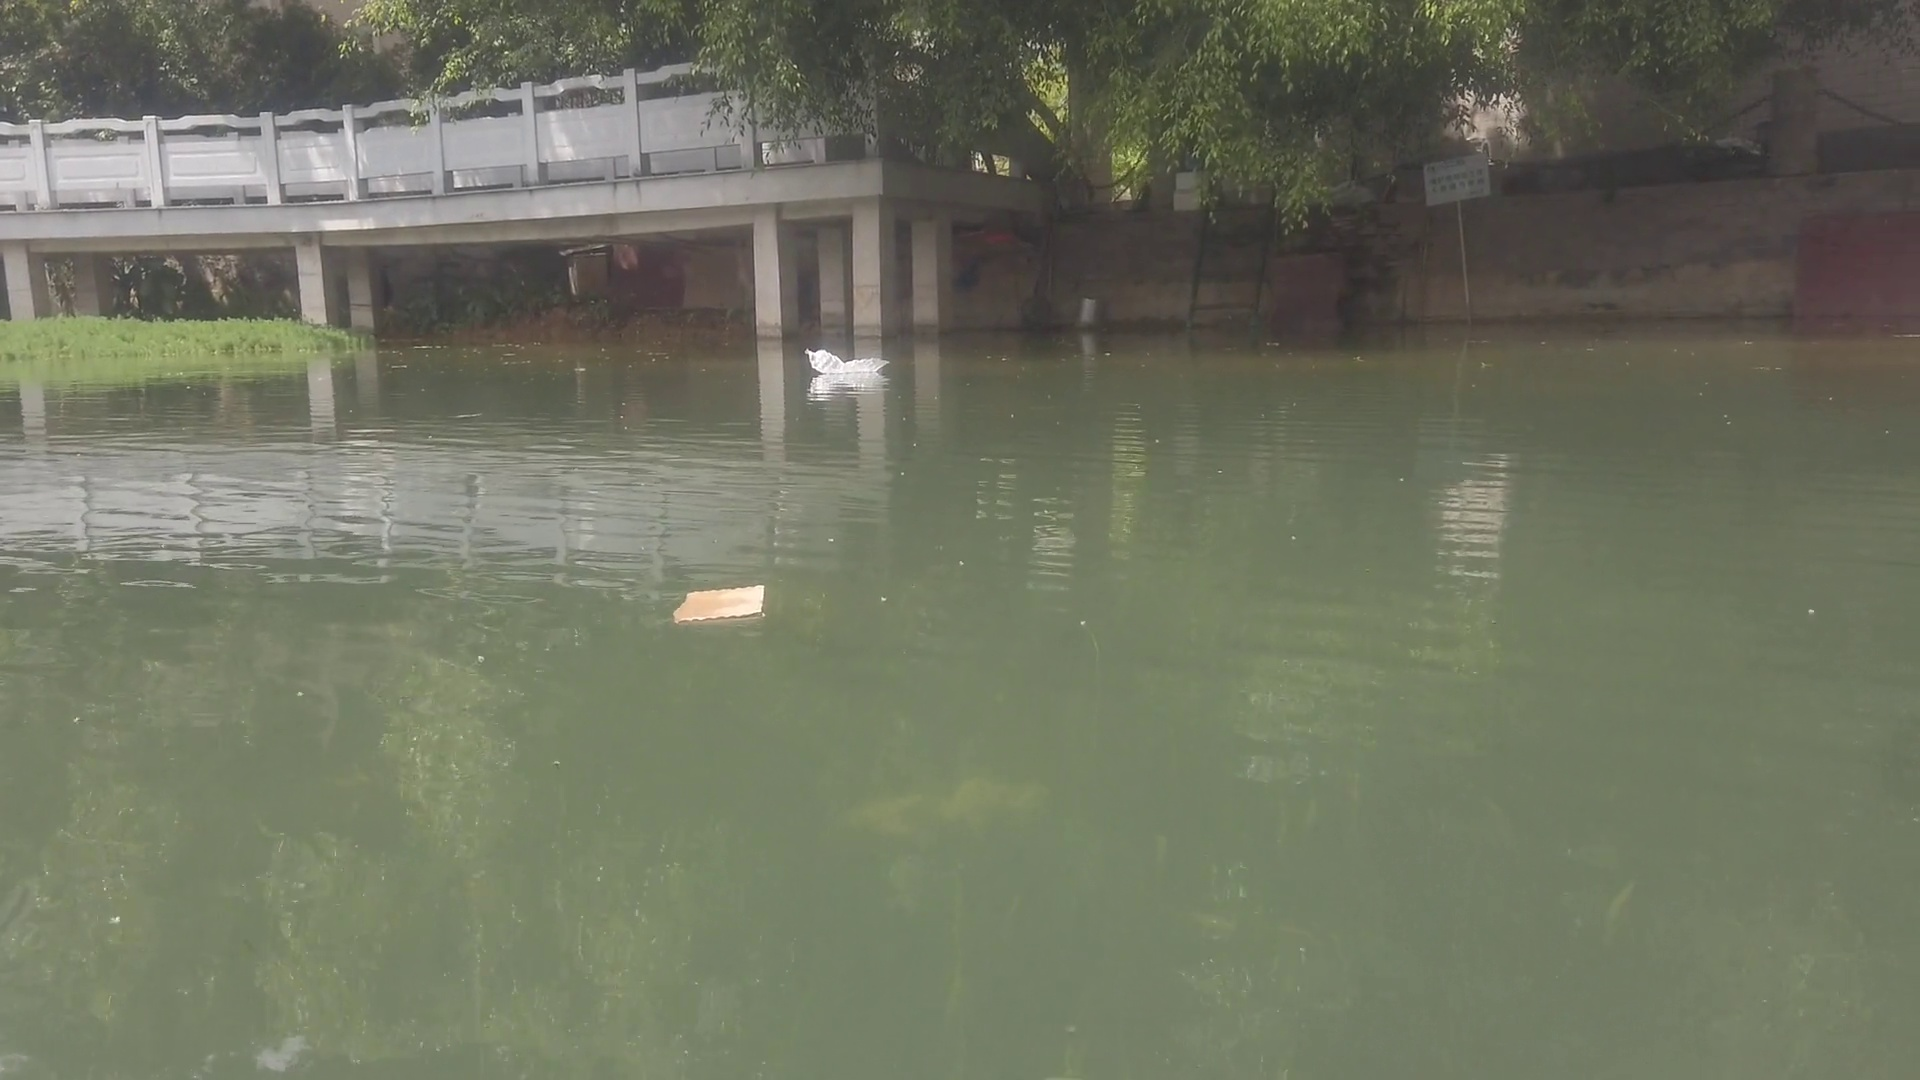paper: (669, 583, 767, 624)
plastic: (804, 349, 890, 376)
